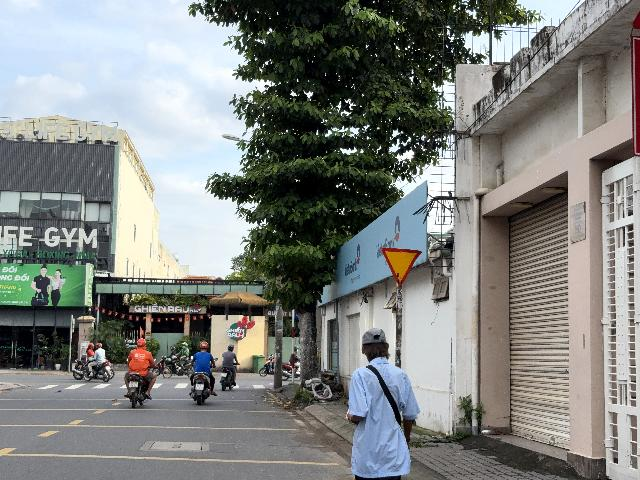giao-nhau-voi-duong-uu-tien: (380, 248, 423, 286)
